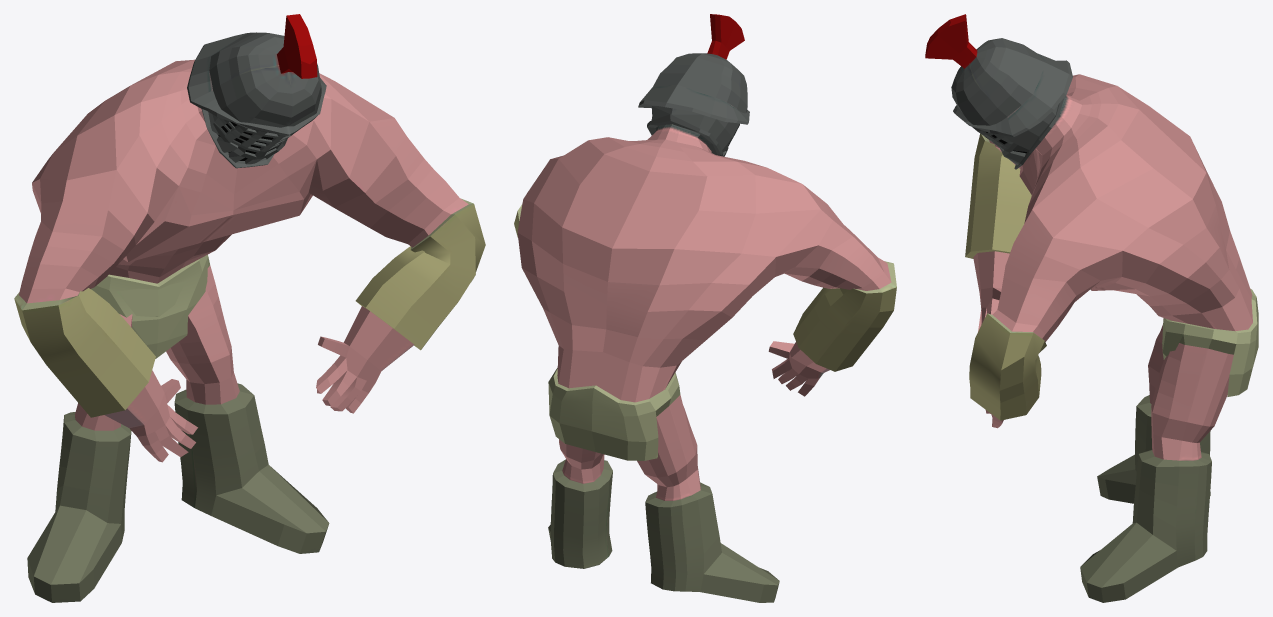
The model's file is GladiatorCelebracion_000475.obj.
The picture shows the model from 3 angles, left to right: view 1: azimuth 30°, elevation 25°; view 2: azimuth 150°, elevation 25°; view 3: azimuth 270°, elevation 25°; orthographic projection. The views are drawn at different scales.
Parts seen in each view (by area): view 1: Gadiador_Gladiador_H; view 2: Gadiador_Gladiador_H; view 3: Gadiador_Gladiador_H.
Boxes of the visible parts, x1,y1,x2,y2 form: Gadiador_Gladiador_H: (14, 14, 485, 602); Gadiador_Gladiador_H: (514, 14, 896, 602); Gadiador_Gladiador_H: (925, 14, 1258, 602).
Size of the model in its own units: 5.03 by 6.41 by 3.59.
1 material, 1 textured.
